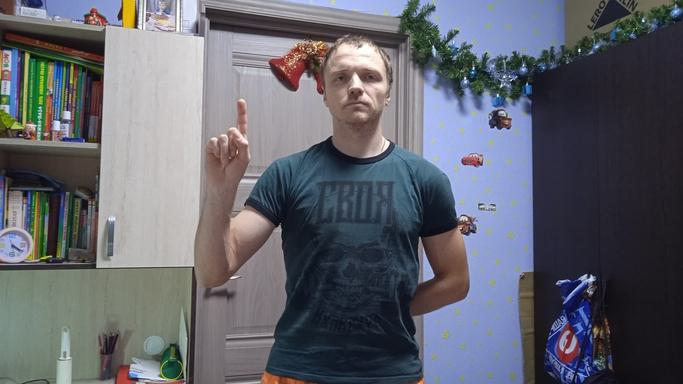one: (201, 96, 253, 191)
